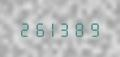eight: (74, 20, 87, 37)
nine: (88, 20, 101, 37)
one: (46, 20, 59, 37)
six: (31, 20, 44, 37)
three: (60, 20, 73, 37)
two: (17, 20, 30, 37)
